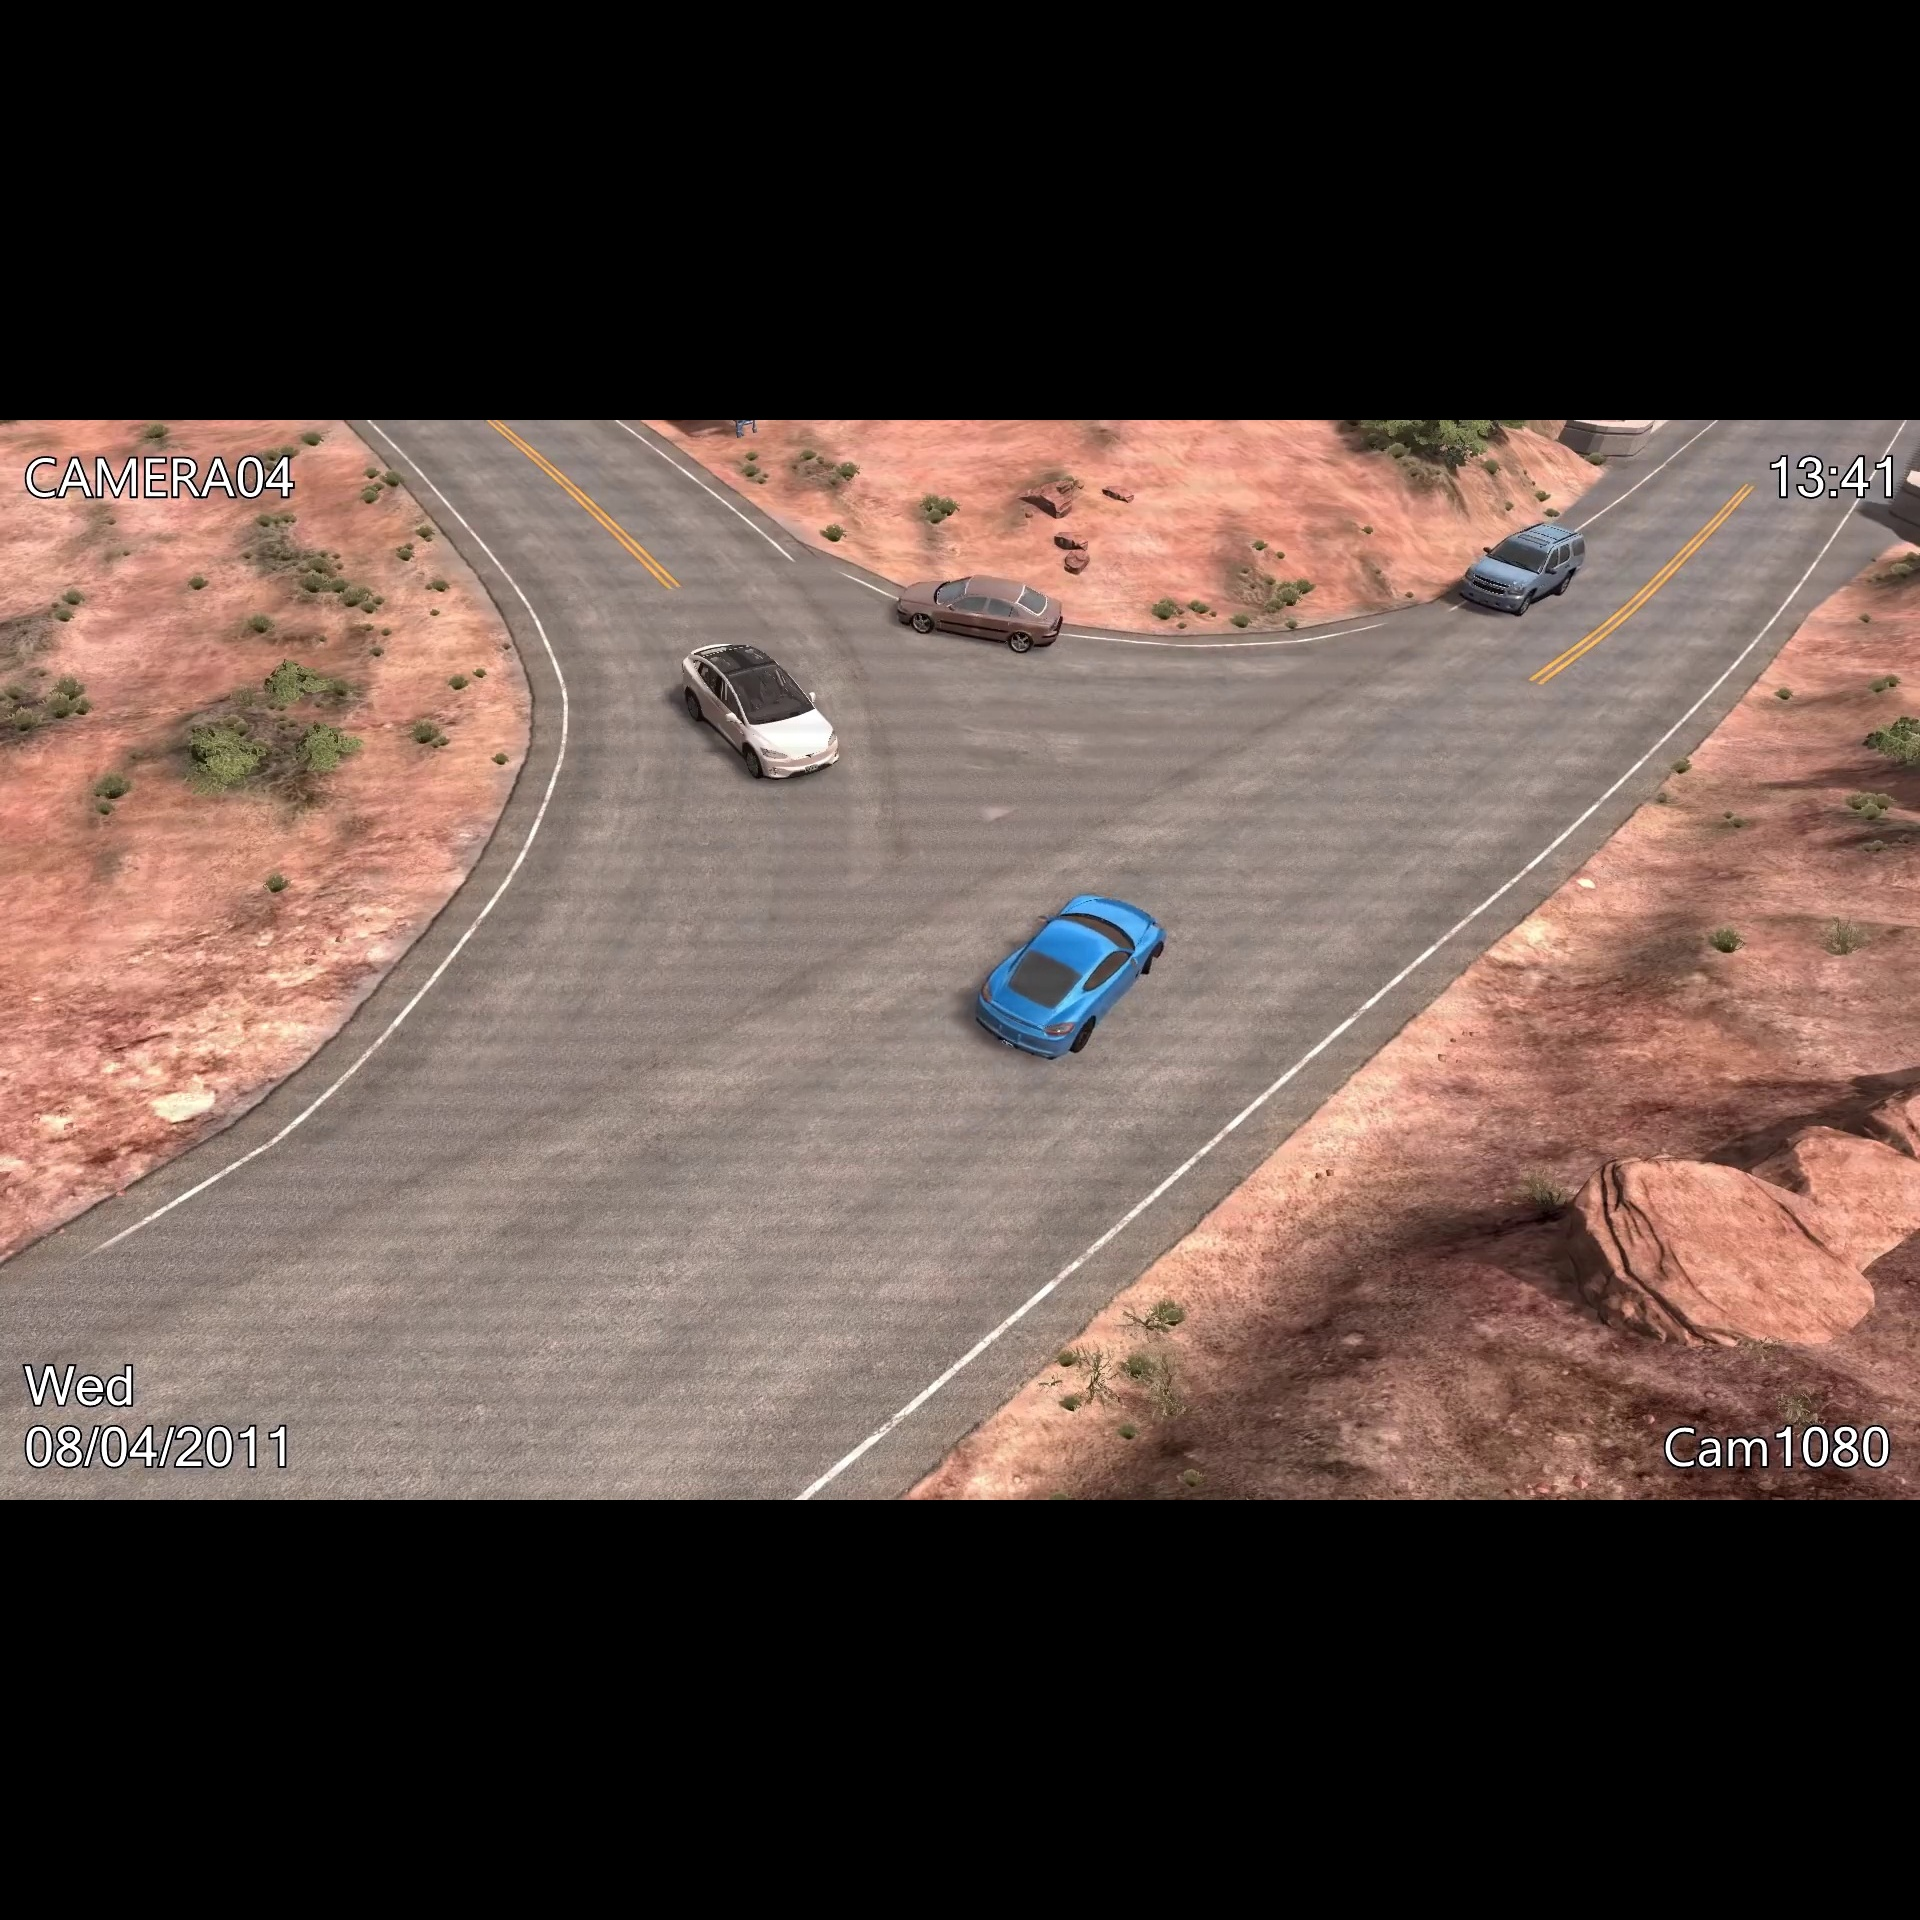vehicle: (969, 879, 1176, 1067), (675, 636, 853, 795), (886, 564, 1073, 659), (1452, 513, 1589, 628)
